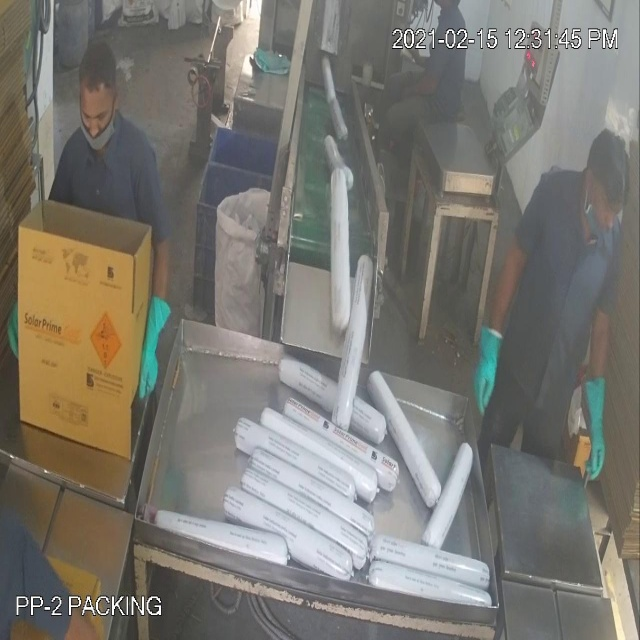Guantes: (129, 285, 185, 412), (462, 309, 511, 416), (585, 360, 614, 489)
Sin_guantes: (384, 60, 459, 105)
